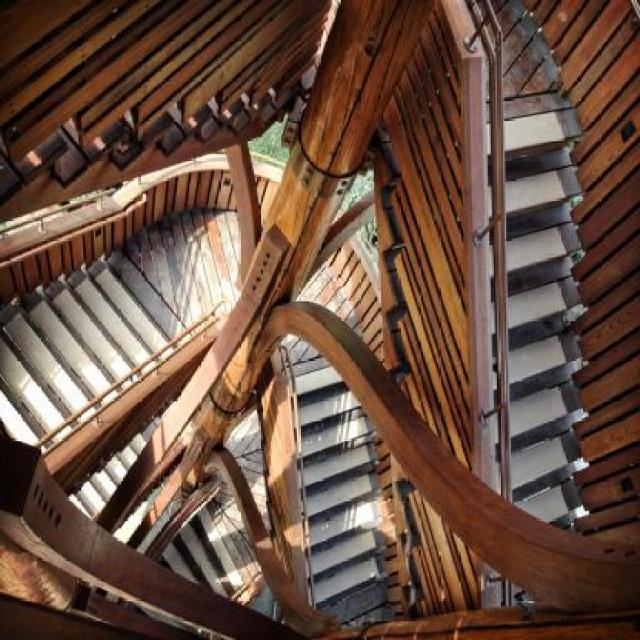stair: (0, 0, 583, 640)
